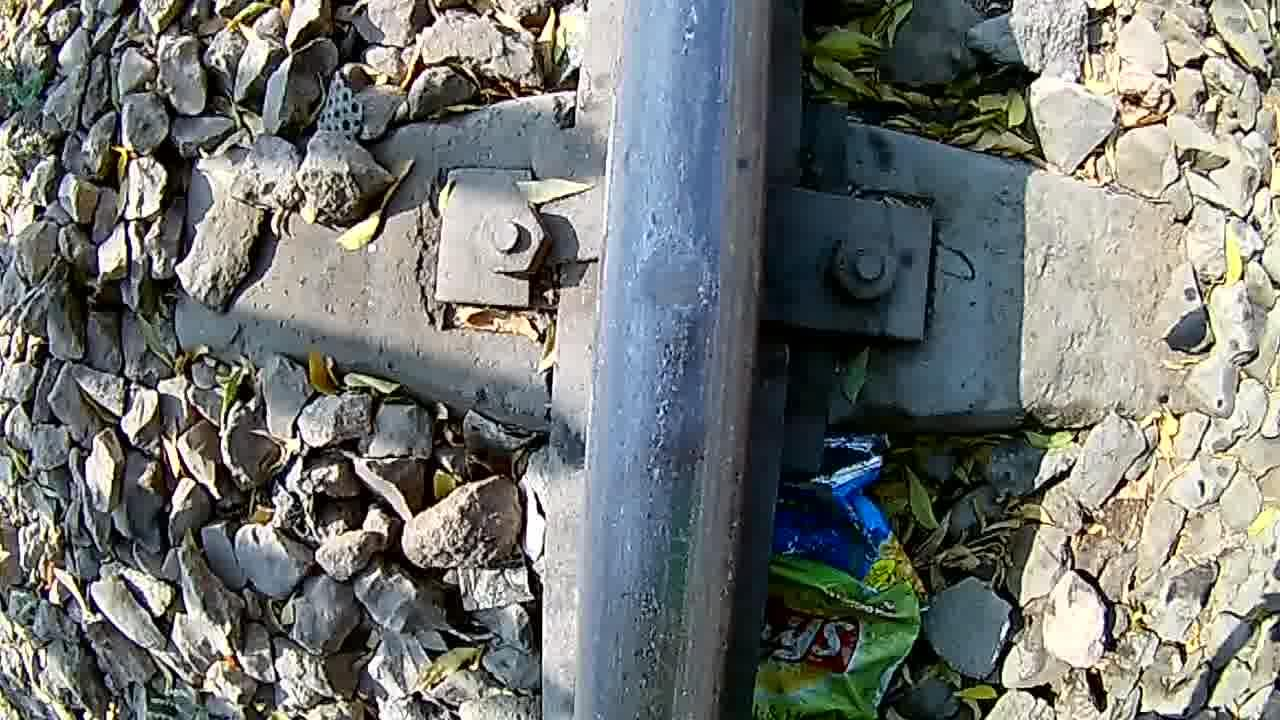bolt_missing: (588, 207, 758, 405)
